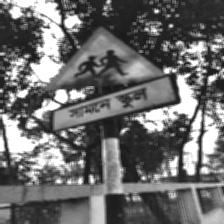School-in-front: (40, 25, 179, 135)
